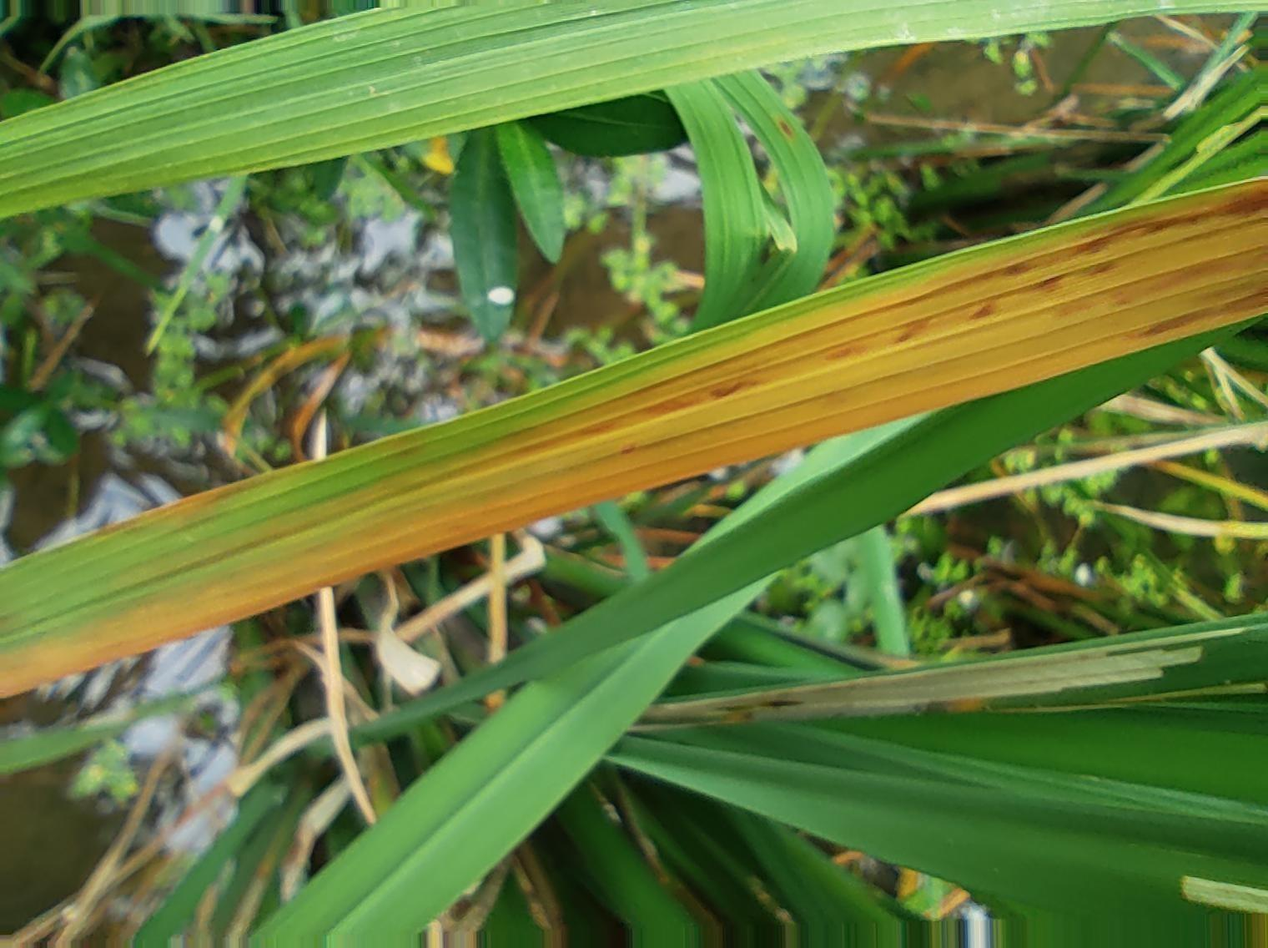LEAF: (0, 178, 1261, 699)
NBS: (1145, 189, 1267, 235), (1075, 222, 1155, 256), (895, 318, 931, 342), (710, 381, 749, 398), (966, 304, 1001, 319), (823, 346, 852, 361), (1003, 262, 1037, 274), (1037, 273, 1065, 287), (1090, 265, 1118, 273)
